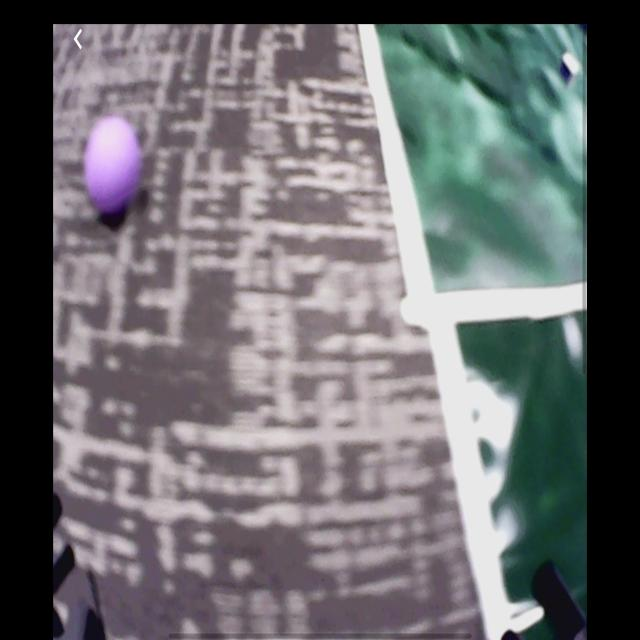ball: (87, 116, 143, 218)
